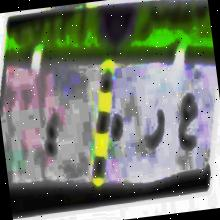4: (40, 109, 64, 161)
ain: (170, 84, 203, 160)
haa: (104, 105, 126, 146)
raa: (139, 103, 168, 157)
